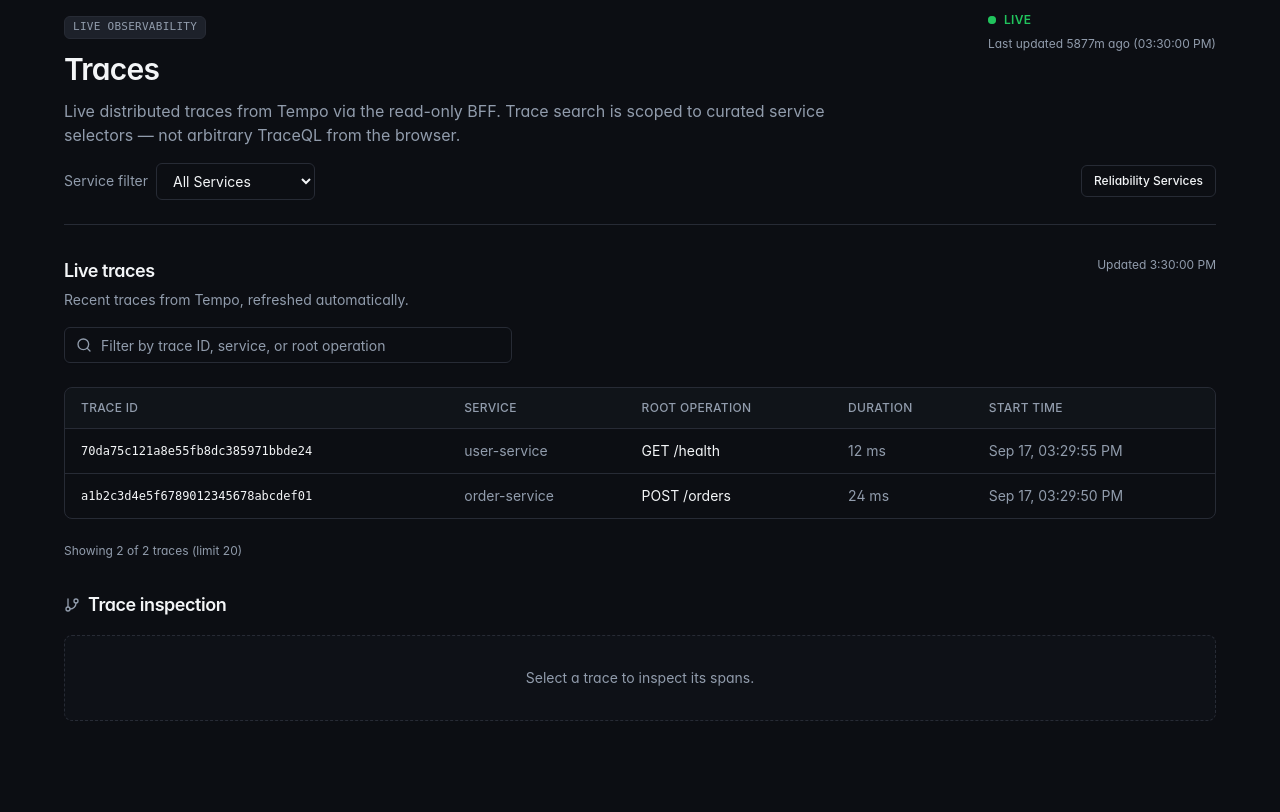
Test: TracesPage › filters traces locally by search query
Expected: the text "POST /orders" is shown, [626,474,832,518]
Step 1. Type "70da75c121" into the field named "Filter traces" → (288, 345), box [64,327,512,363]
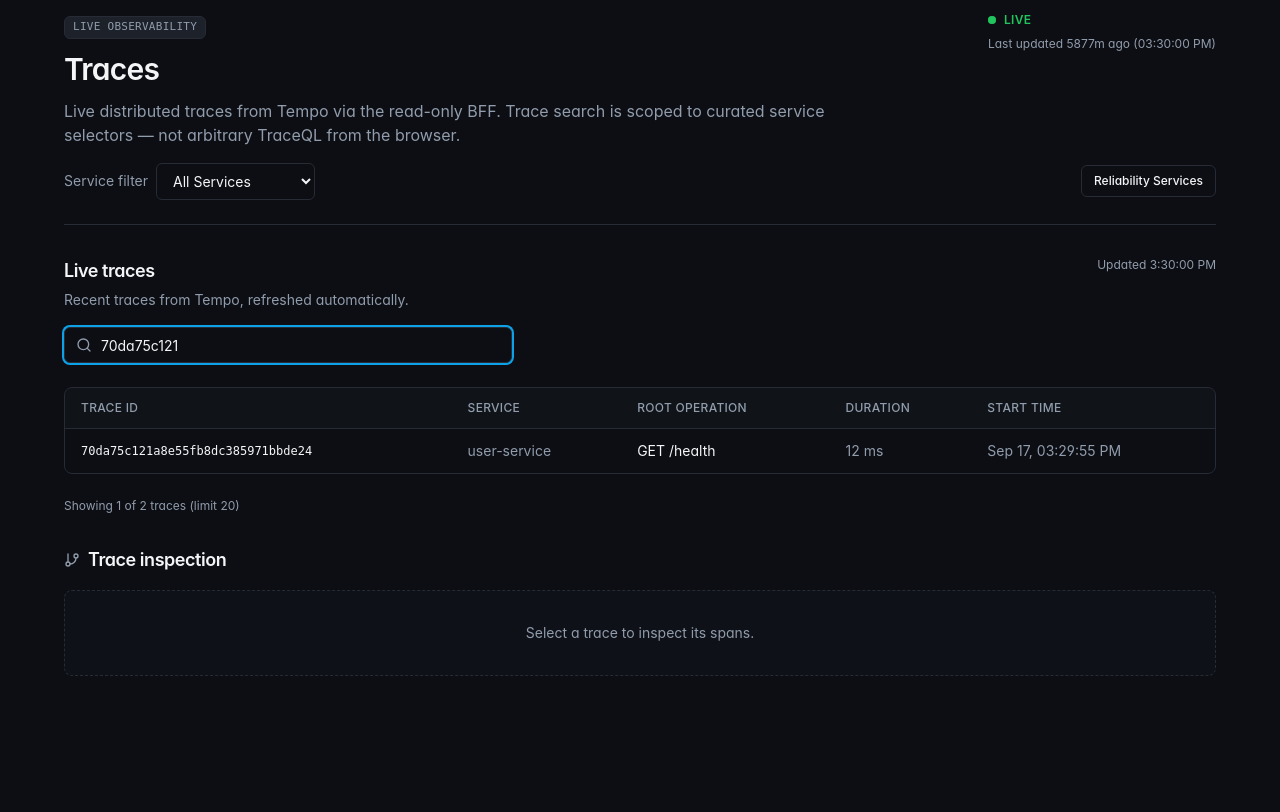
Expected: the text "GET /health" is shown, [621,429,830,473]
Now the text "POST /orders" is gone
